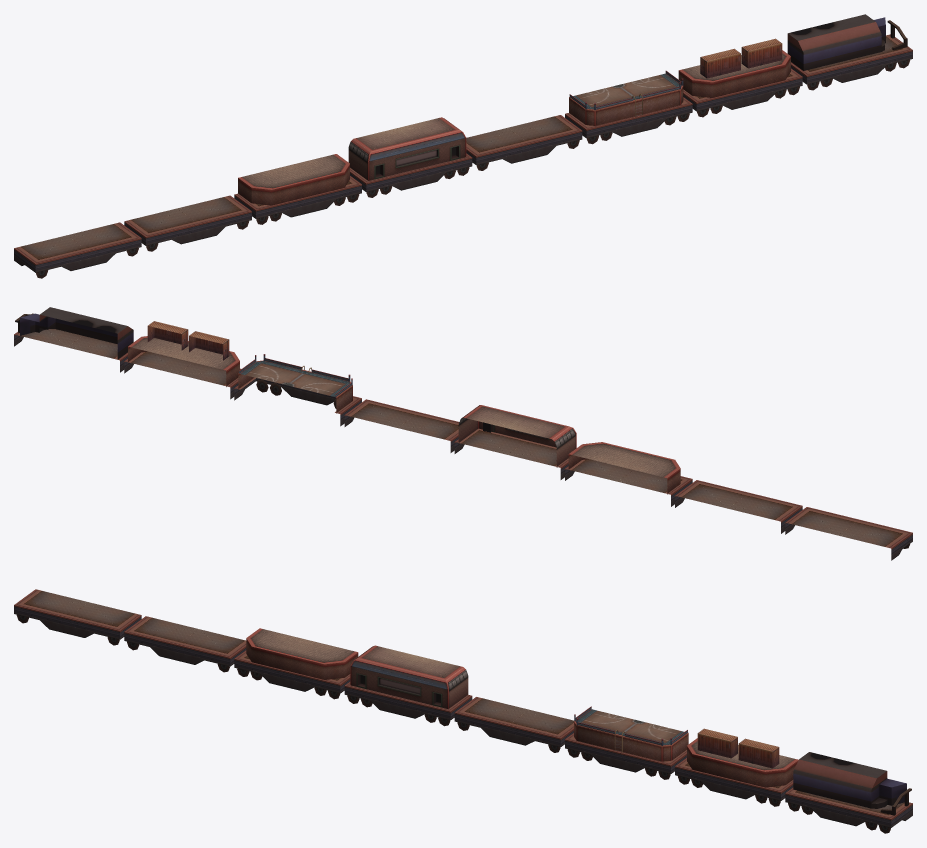
File: S0_Train_Far.FBX
3 renders of one model, top to bottom at view 1: azimuth 30°, elevation 25°; view 2: azimuth 150°, elevation 25°; view 3: azimuth 330°, elevation 25°, orthographic.
Parts seen in each view (by area): view 1: S0_Train_Far; view 2: S0_Train_Far; view 3: S0_Train_Far.
Boxes of the visible parts, box(x1,y1,x2,y2) form: S0_Train_Far: box(14, 14, 912, 278); S0_Train_Far: box(14, 307, 912, 560); S0_Train_Far: box(14, 589, 912, 833).
Bounding box in the file's own units: 35833 × 1534 × 1948.
